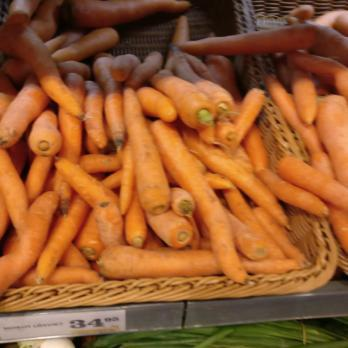Carrot: (0, 66, 255, 278), (269, 2, 348, 278), (4, 0, 195, 64)
